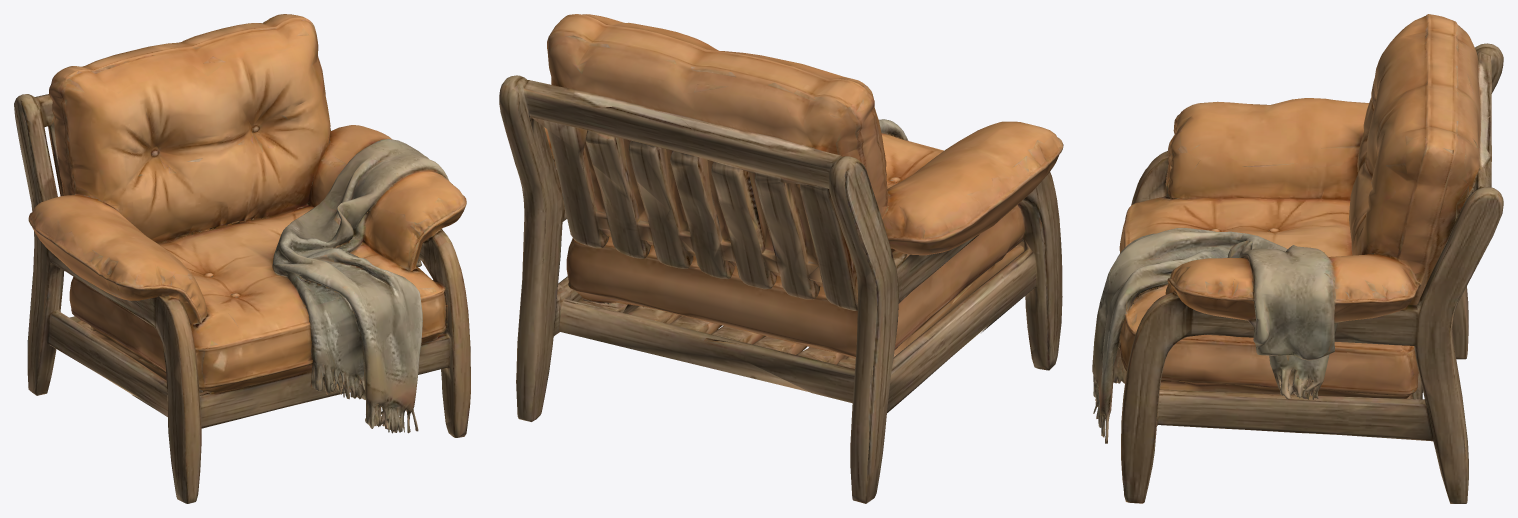
The model's file is armchair.glb.
The picture shows the model from 3 angles, left to right: view 1: azimuth 30°, elevation 25°; view 2: azimuth 150°, elevation 25°; view 3: azimuth 270°, elevation 25°; orthographic projection. The views are drawn at different scales.
Parts seen in each view (by area): view 1: Mesh_0; view 2: Mesh_0; view 3: Mesh_0.
Part boxes in pixels (x1,y1,x2,y2): Mesh_0: (14,14,470,503); Mesh_0: (499,14,1063,503); Mesh_0: (1092,14,1503,503).
Bounding box in the file's own units: 1.91 × 1.6 × 1.68.
Materials: 1 (1 with a texture image).
